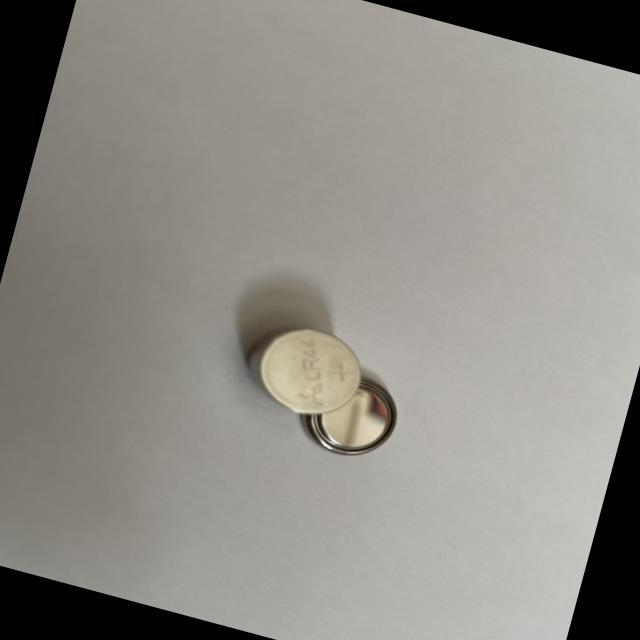COIN: (238, 312, 368, 424), (293, 366, 402, 465)
